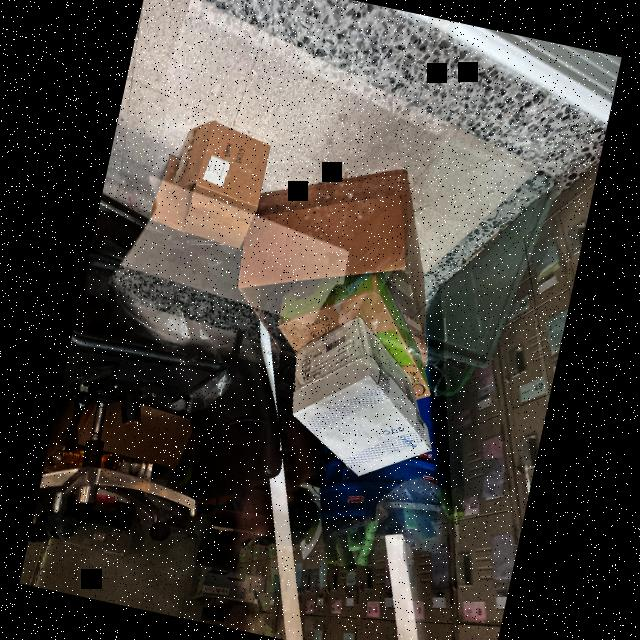cardboard_box: (222, 143, 453, 359), (269, 310, 464, 497), (262, 256, 450, 410), (146, 114, 288, 261)
